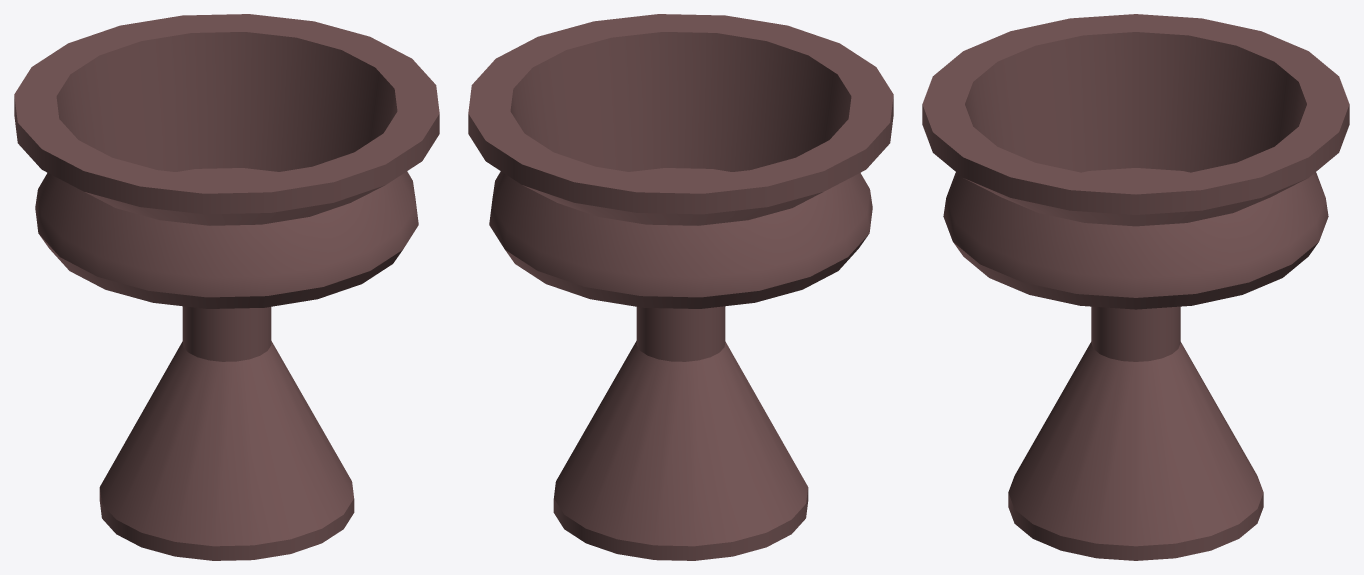
The picture shows the model from 3 angles, left to right: view 1: azimuth 30°, elevation 25°; view 2: azimuth 150°, elevation 25°; view 3: azimuth 270°, elevation 25°; orthographic projection.
Visible parts, largest first — view 1: polySurface68; view 2: polySurface68; view 3: polySurface68.
Part boxes in pixels (x1,y1,x2,y2): polySurface68: (14, 14, 439, 560); polySurface68: (468, 14, 893, 560); polySurface68: (922, 14, 1349, 560).
Bounding box in the file's own units: 239 × 251 × 239.
